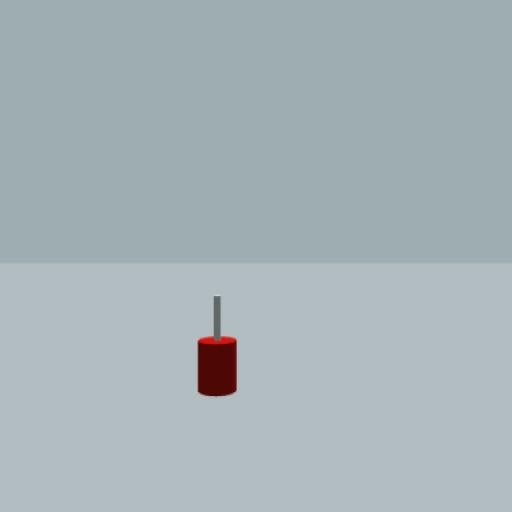floating_obstacle: (196, 294, 239, 398)
